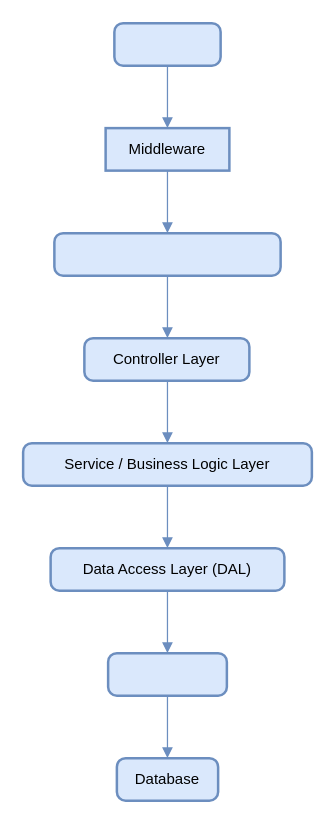
Some shapes in this 334 by 823 pixel diagram are drawn without their labels. The shapes that lost their labels are listed below. From the top down, each one's centre as x and y in pixels, then its label:
At pixel 166 43: "API Route".
At pixel 166 253: "Role-Based Middleware".
At pixel 167 673: "Data Model".
